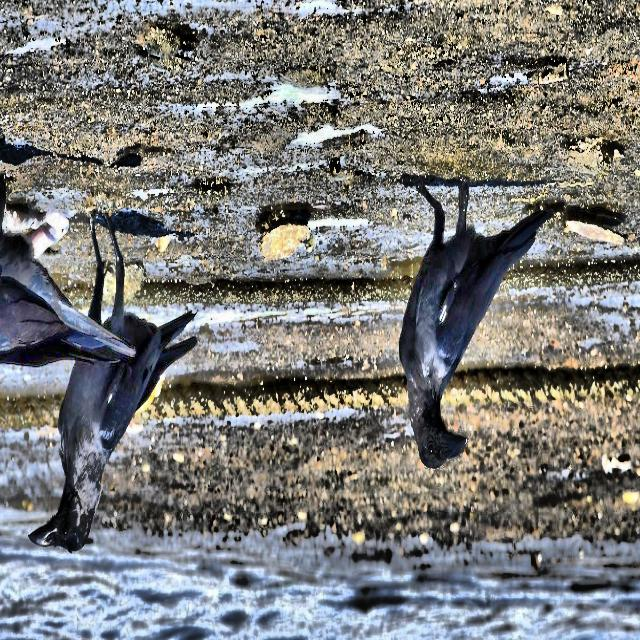crow: (26, 209, 221, 577), (398, 165, 564, 482)
